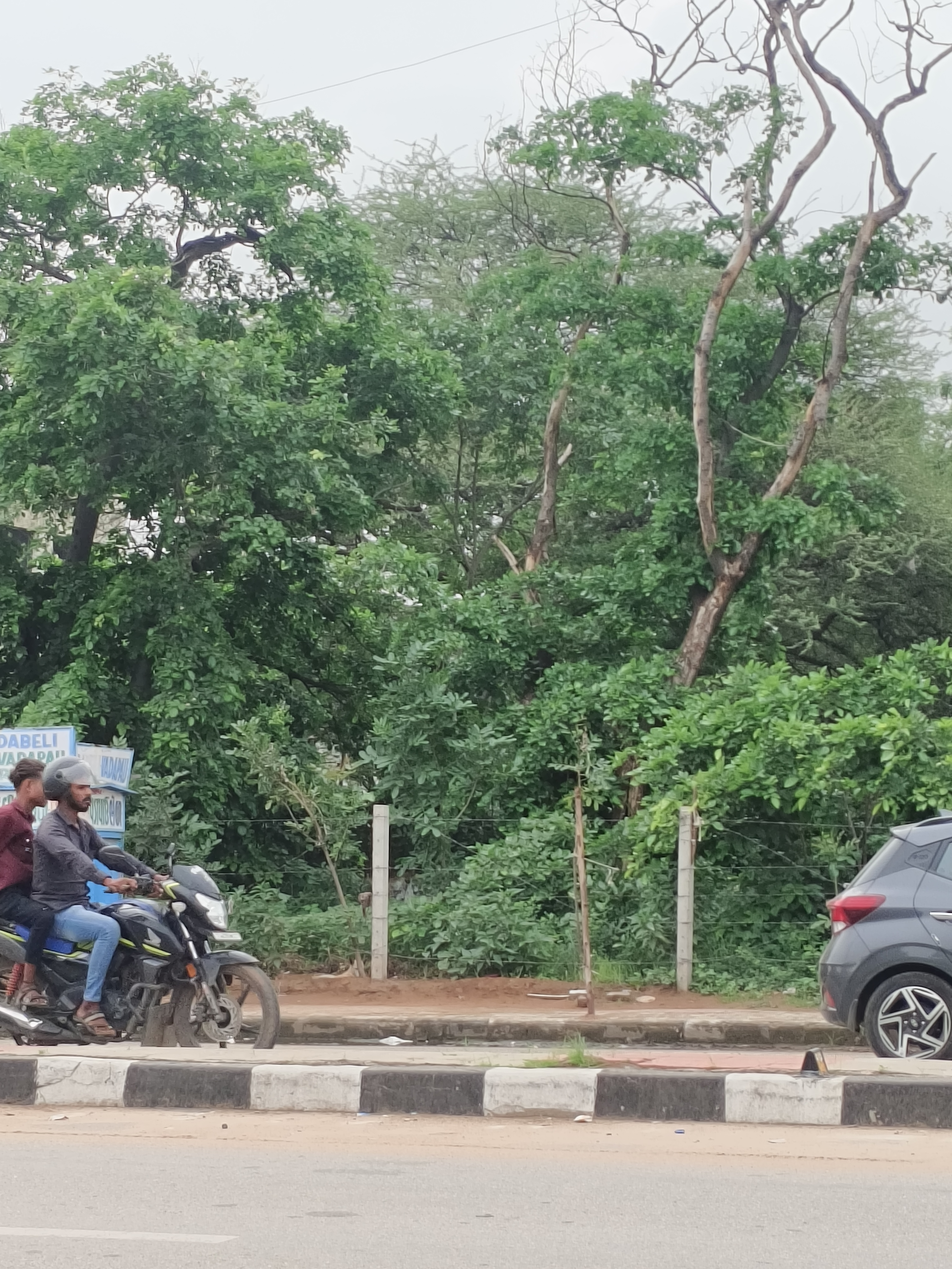BikeWithRider: (0, 749, 293, 1067)
Helmet: (45, 749, 108, 818)
NoHelmet: (7, 755, 52, 808)
